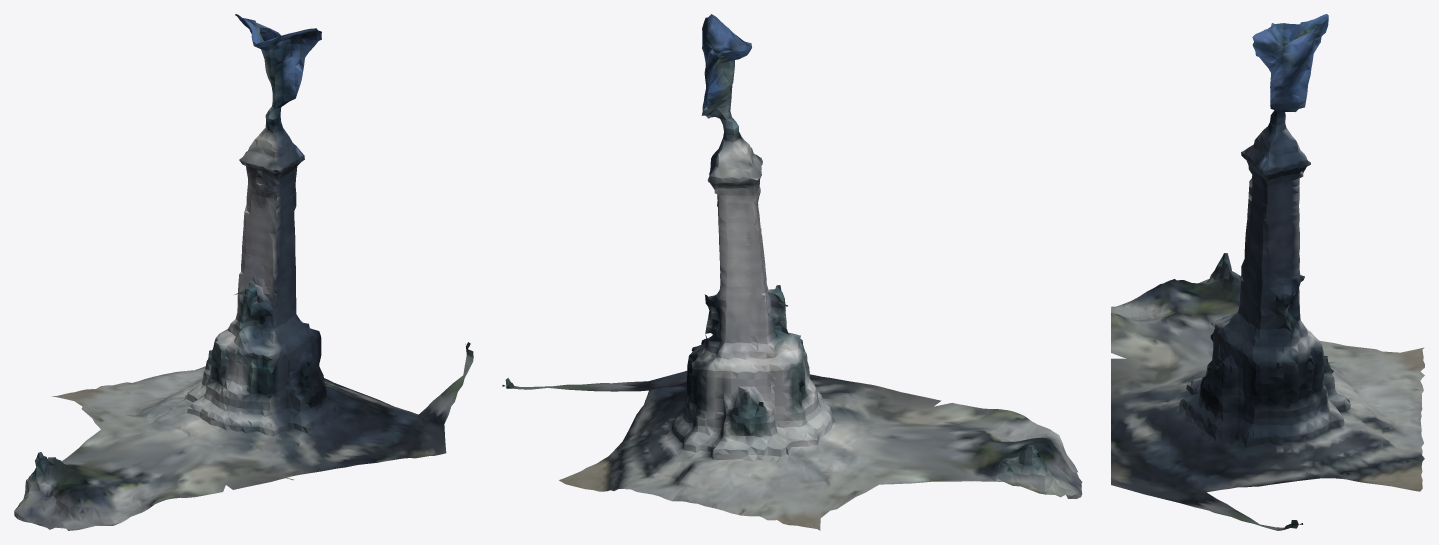
File: 3DModel-lowpoly.obj
3 renders of one model, left to right at view 1: azimuth 30°, elevation 25°; view 2: azimuth 150°, elevation 25°; view 3: azimuth 270°, elevation 25°, orthographic. The views are drawn at different scales.
Bounding box in the file's own units: 1.21 × 0.926 × 0.6236.
